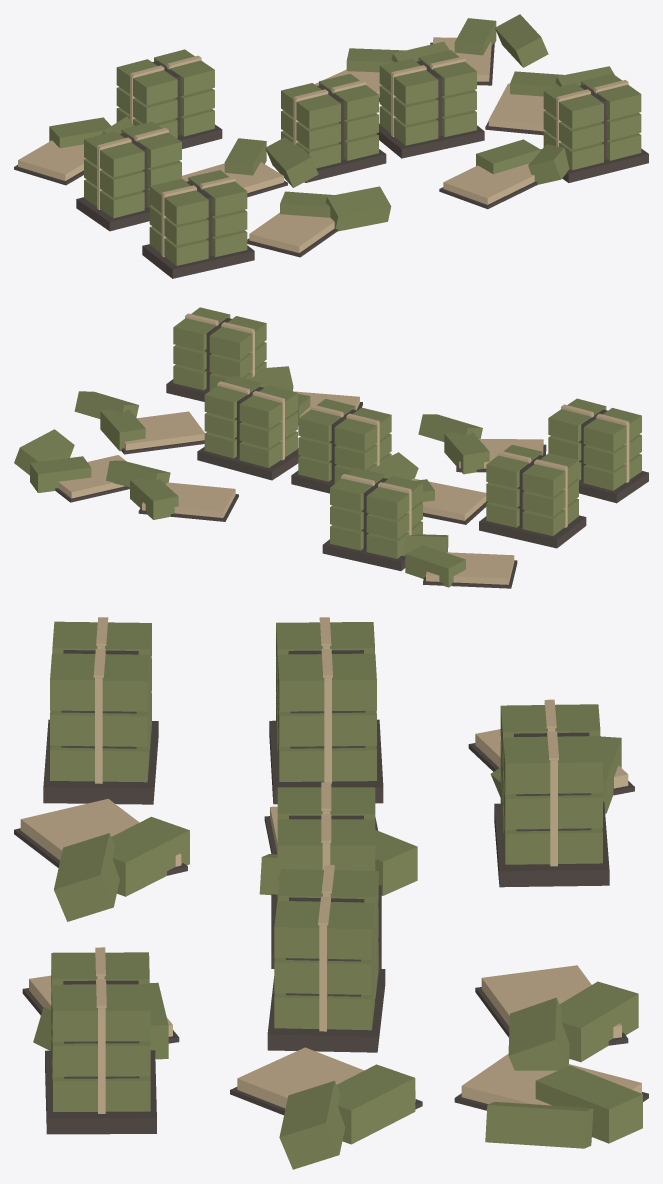
The model's file is SM_AcopioMunicion_v3_Saqueado_LOD0.fbx.
3 renders of one model, top to bottom at view 1: azimuth 30°, elevation 25°; view 2: azimuth 150°, elevation 25°; view 3: azimuth 270°, elevation 25°, orthographic. The views are drawn at different scales.
Visible parts, largest first — view 1: SM_acopio_carga_v3_LOD0; view 2: SM_acopio_carga_v3_LOD0; view 3: SM_acopio_carga_v3_LOD0.
Boxes of the visible parts, box(x1,y1,x2,y2) form: SM_acopio_carga_v3_LOD0: box(14, 14, 648, 278); SM_acopio_carga_v3_LOD0: box(14, 307, 648, 588); SM_acopio_carga_v3_LOD0: box(14, 617, 648, 1169).
Size of the model in its own units: 8.32 by 1.1 by 5.07.
